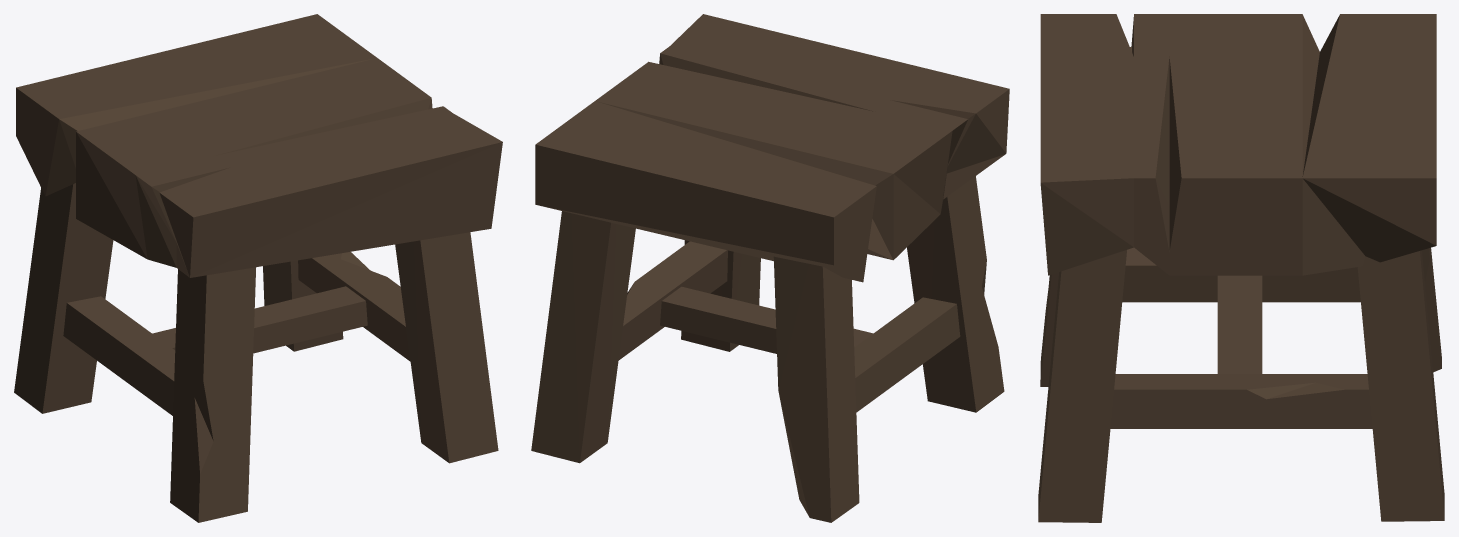
Rendered from Stool.fbx.
The picture shows the model from 3 angles, left to right: view 1: azimuth 30°, elevation 25°; view 2: azimuth 150°, elevation 25°; view 3: azimuth 270°, elevation 25°; orthographic projection. The views are drawn at different scales.
Visible parts, largest first — view 1: Stool; view 2: Stool; view 3: Stool.
Boxes of the visible parts, left/top/right/bottom form: Stool: left=14, top=14, right=502, bottom=522; Stool: left=531, top=14, right=1009, bottom=522; Stool: left=1038, top=14, right=1444, bottom=522.
Bounding box in the file's own units: 152 × 145 × 155.
